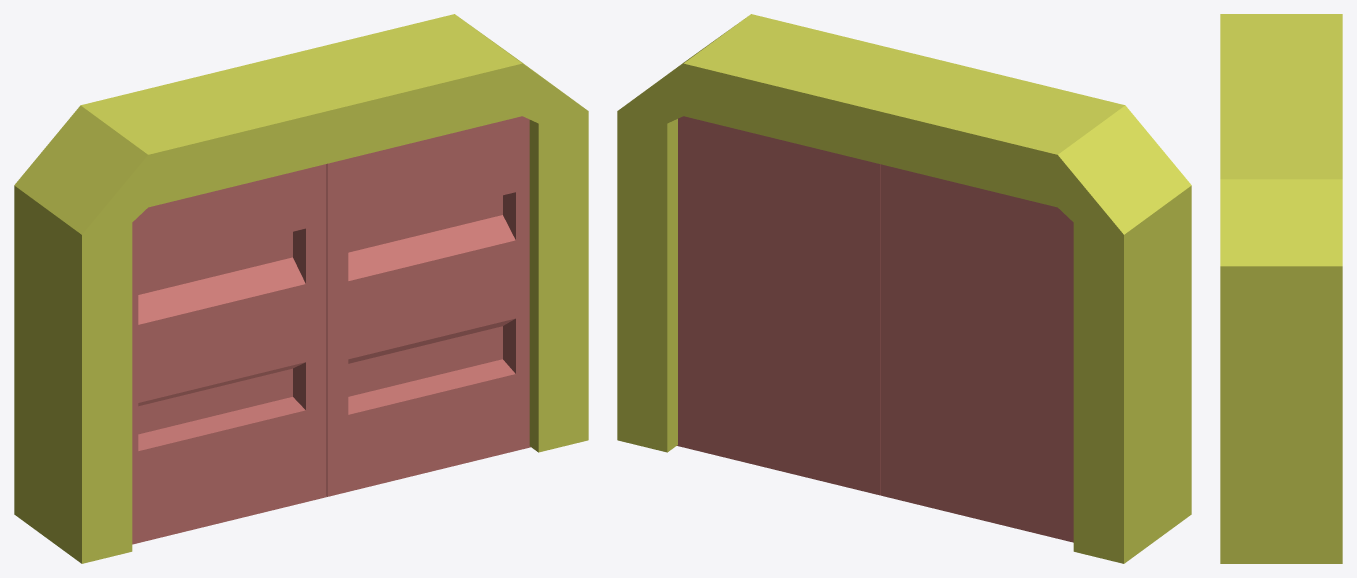
File: Slide_Door.fbx
3 views of the same model, side by side, from view 1: azimuth 30°, elevation 25°; view 2: azimuth 150°, elevation 25°; view 3: azimuth 270°, elevation 25° (orthographic). The views are drawn at different scales.
Parts seen in each view (by area): view 1: pCube38, pPlane7, pPlane10; view 2: pCube38, pPlane7, pPlane10; view 3: pCube38.
Part boxes in pixels (box(x1,y1,x2,y2)): pCube38: box(14, 14, 588, 563); pPlane7: box(326, 116, 530, 496); pPlane10: box(132, 164, 326, 544); pCube38: box(617, 14, 1191, 563); pPlane7: box(677, 116, 880, 495); pPlane10: box(881, 164, 1073, 542); pCube38: box(1220, 14, 1342, 563).
Size of the model in its own units: 3.02 by 2.25 by 0.7.
